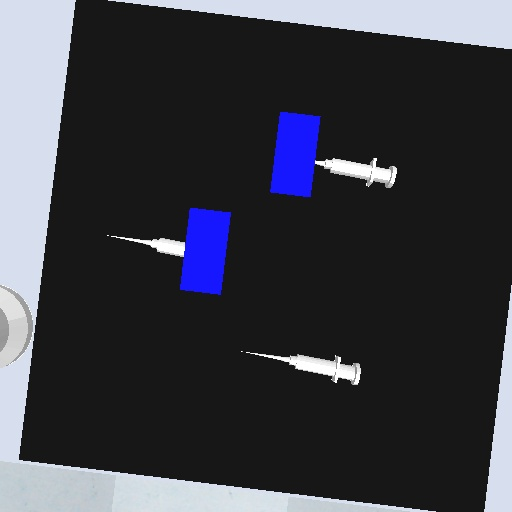jeringuilla: (237, 345, 366, 388), (313, 151, 400, 192), (102, 227, 188, 260)
